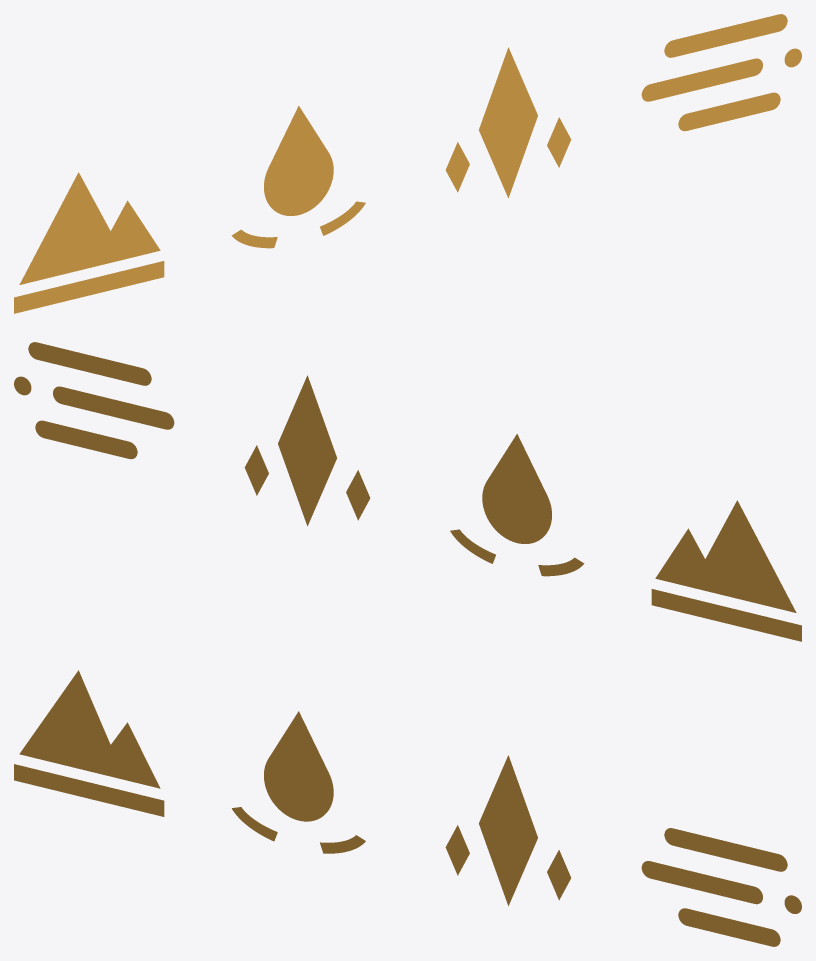
The model's file is glyphs.glb.
3 renders of one model, top to bottom at view 1: azimuth 30°, elevation 25°; view 2: azimuth 150°, elevation 25°; view 3: azimuth 330°, elevation 25°, orthographic.
Parts seen in each view (by area): view 1: glyphs; view 2: glyphs; view 3: glyphs.
Boxes of the visible parts, x1,y1,x2,y2 form: glyphs: (14, 14, 801, 313); glyphs: (14, 342, 801, 641); glyphs: (14, 670, 801, 946).
Bounding box in the file's own units: 4.51 × 0.83 × 0.
